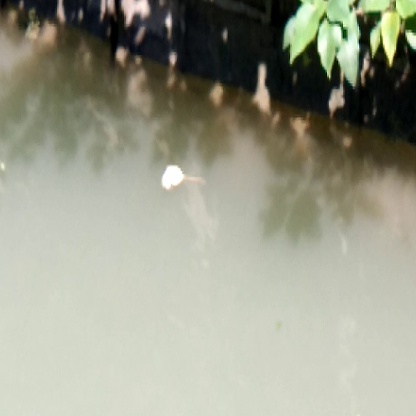leaf: (293, 4, 319, 75), (376, 12, 405, 65)
